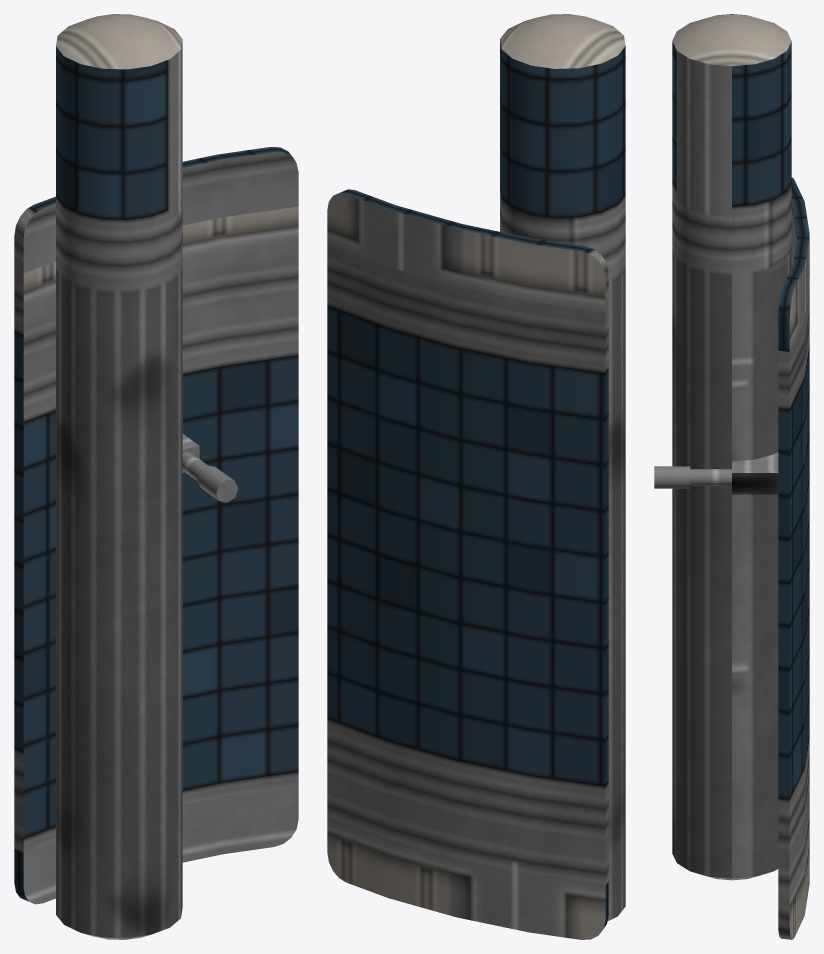
Rendered from single_short_rad.obj.
The picture shows the model from 3 angles, left to right: view 1: azimuth 30°, elevation 25°; view 2: azimuth 150°, elevation 25°; view 3: azimuth 270°, elevation 25°; orthographic projection. The views are drawn at different scales.
Visible parts, largest first — view 1: 1; view 2: 1; view 3: 1.
Part boxes in pixels (x1=…): 1: x1=14, y1=14, x2=298, y2=939; 1: x1=327, y1=14, x2=625, y2=939; 1: x1=654, y1=14, x2=809, y2=939.
Size of the model in its own units: 0.6341 by 1.95 by 0.325.
